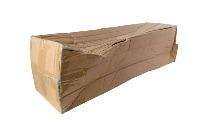undamaged: (25, 19, 177, 116)
